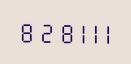eight: (17, 19, 32, 43), (50, 19, 65, 43)
one: (66, 20, 81, 44), (82, 20, 97, 44), (98, 20, 113, 44)
two: (33, 19, 48, 43)
